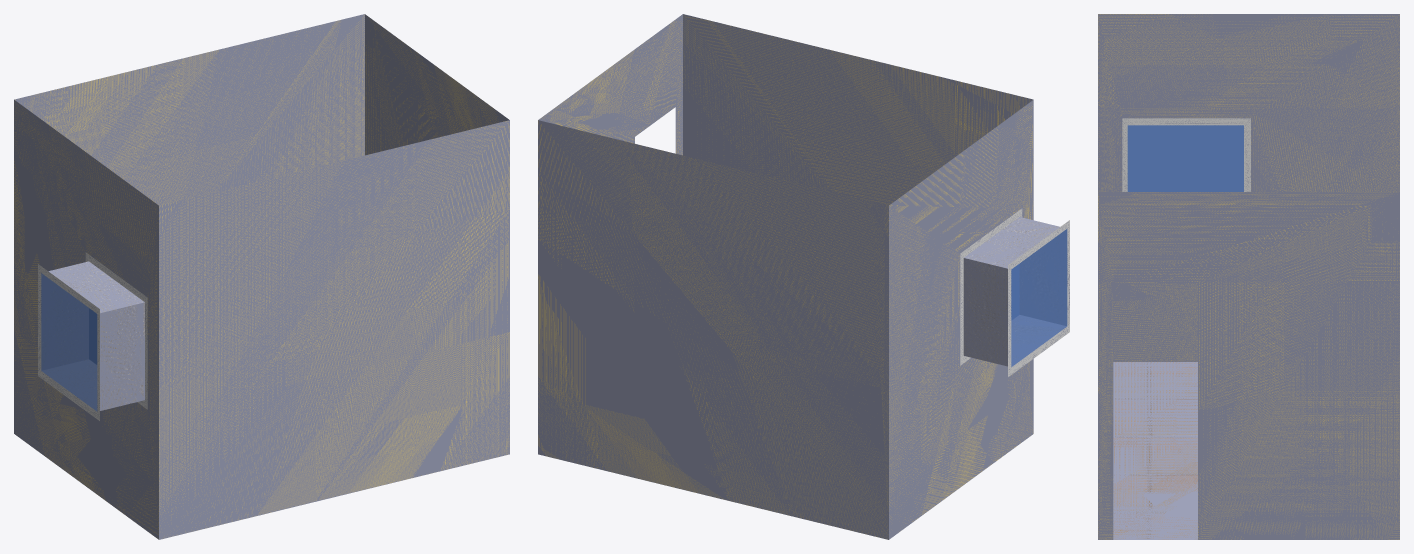
Rendered from DES020.obj.
3 renders of one model, left to right at view 1: azimuth 30°, elevation 25°; view 2: azimuth 150°, elevation 25°; view 3: azimuth 270°, elevation 25°, orthographic. The views are drawn at different scales.
Parts seen in each view (by area): view 1: Mesh5 DES020 Model, Mesh1 Group1 DES020 Model; view 2: Mesh5 DES020 Model, Mesh1 Group1 DES020 Model; view 3: Mesh5 DES020 Model, Mesh1 Group1 DES020 Model.
Part boxes in pixels (x1=…): Mesh5 DES020 Model: x1=14, y1=14, x2=509, y2=539; Mesh1 Group1 DES020 Model: x1=38, y1=252, x2=147, y2=420; Mesh5 DES020 Model: x1=538, y1=14, x2=1033, y2=539; Mesh1 Group1 DES020 Model: x1=960, y1=208, x2=1069, y2=376; Mesh5 DES020 Model: x1=1098, y1=14, x2=1399, y2=539; Mesh1 Group1 DES020 Model: x1=1122, y1=118, x2=1250, y2=191.
Size of the model in its own units: 3.75 by 3 by 2.36.
Materials: 6 (2 with a texture image).
